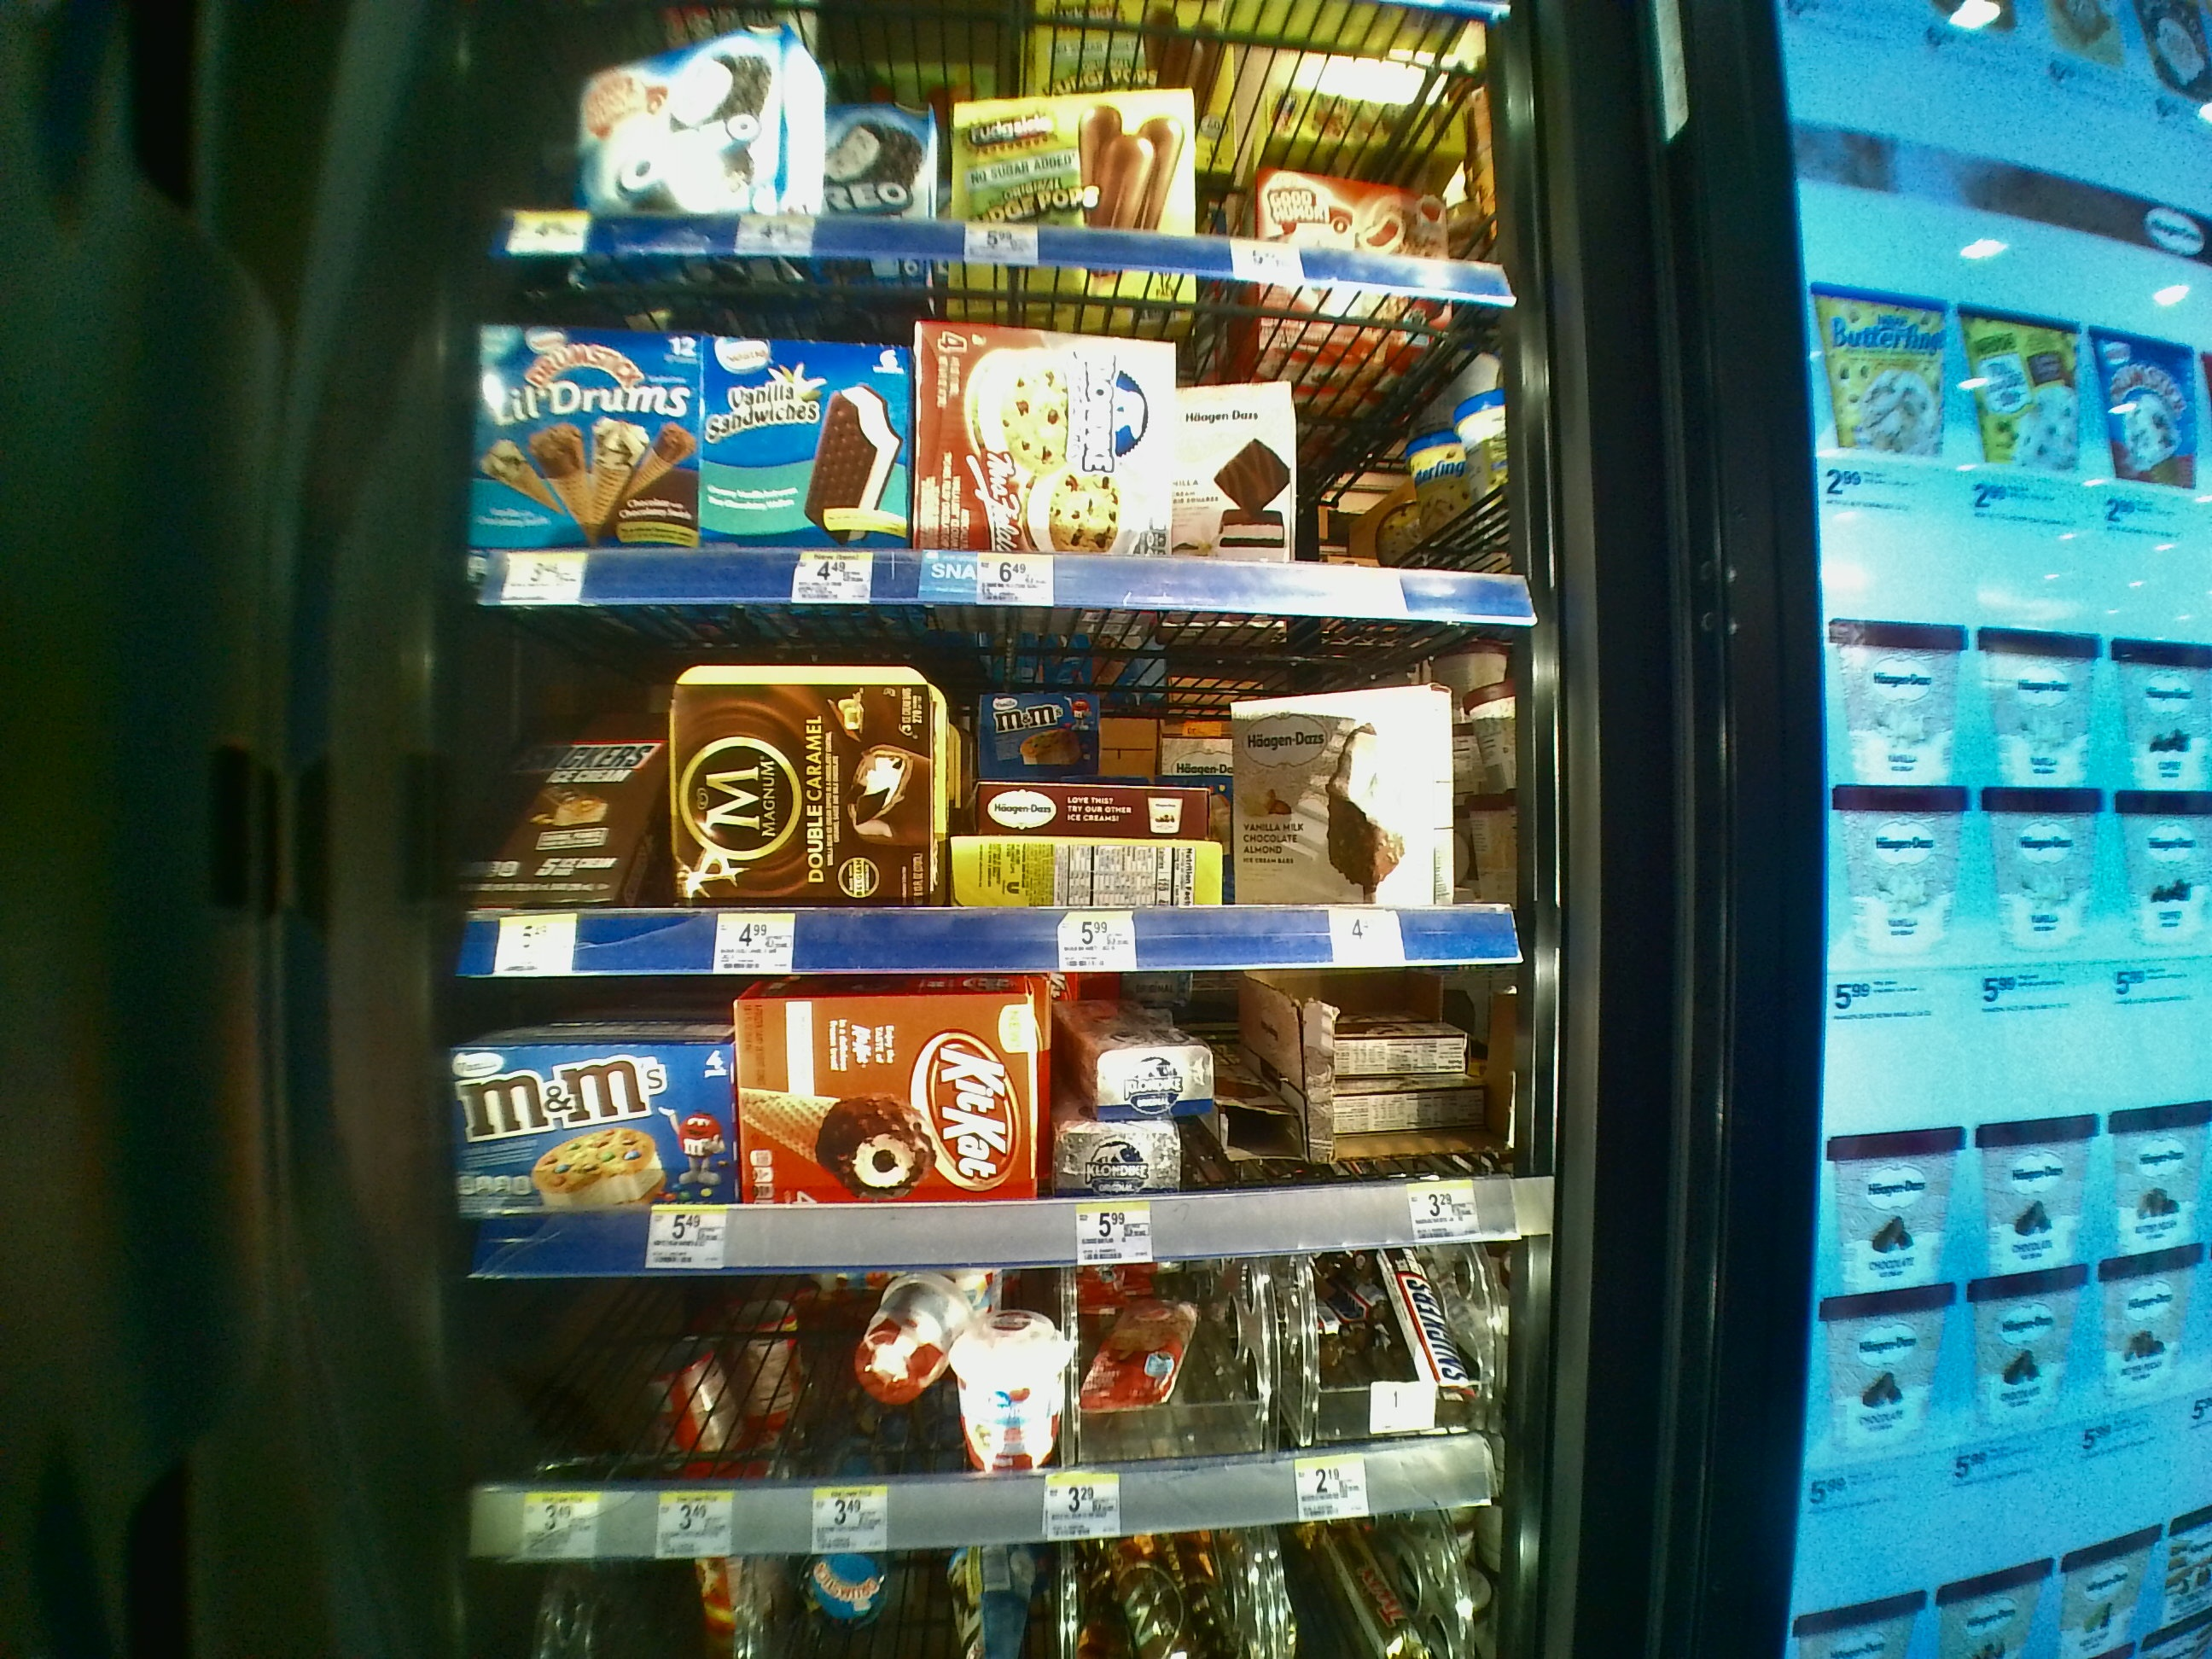shelf: (455, 256, 1541, 606), (462, 622, 1526, 979), (477, 1281, 1524, 1561), (469, 995, 1533, 1260)
